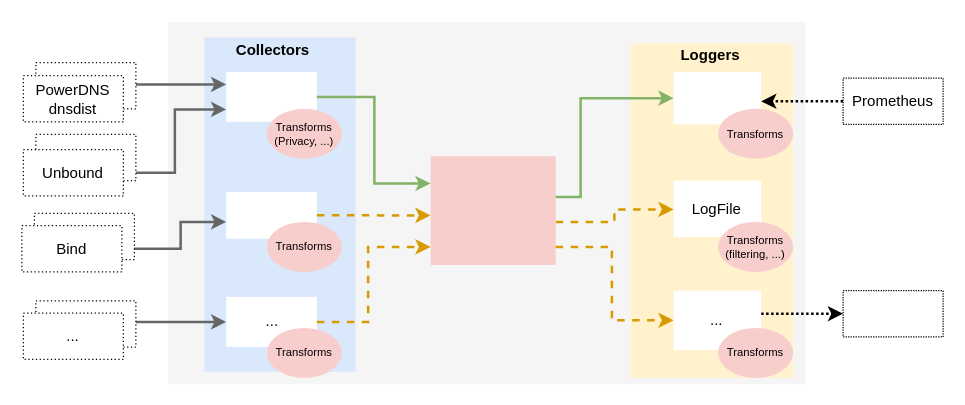
Image size: 965x405. Some labels were removed from this diagram. Each missing label, with the centre of its shape:
dnstap: point (271, 96)
Metrics: point (716, 97)
Multiplexer Routing: point (492, 210)
Sinks: point (892, 313)
tail: point (271, 214)
